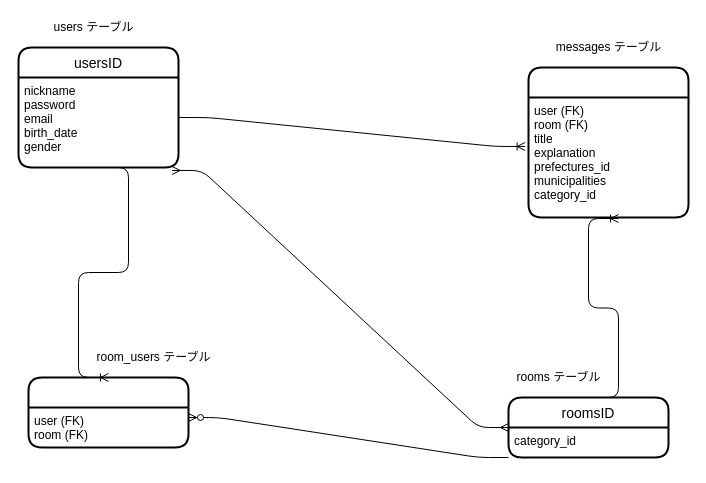
This 706x483 diagram has some shape labels left out. Here are the shapes that lost their labels. From the top down, the box of each, then its label:
(527, 66, 689, 218): messagesID
(27, 376, 189, 448): room_usersID
